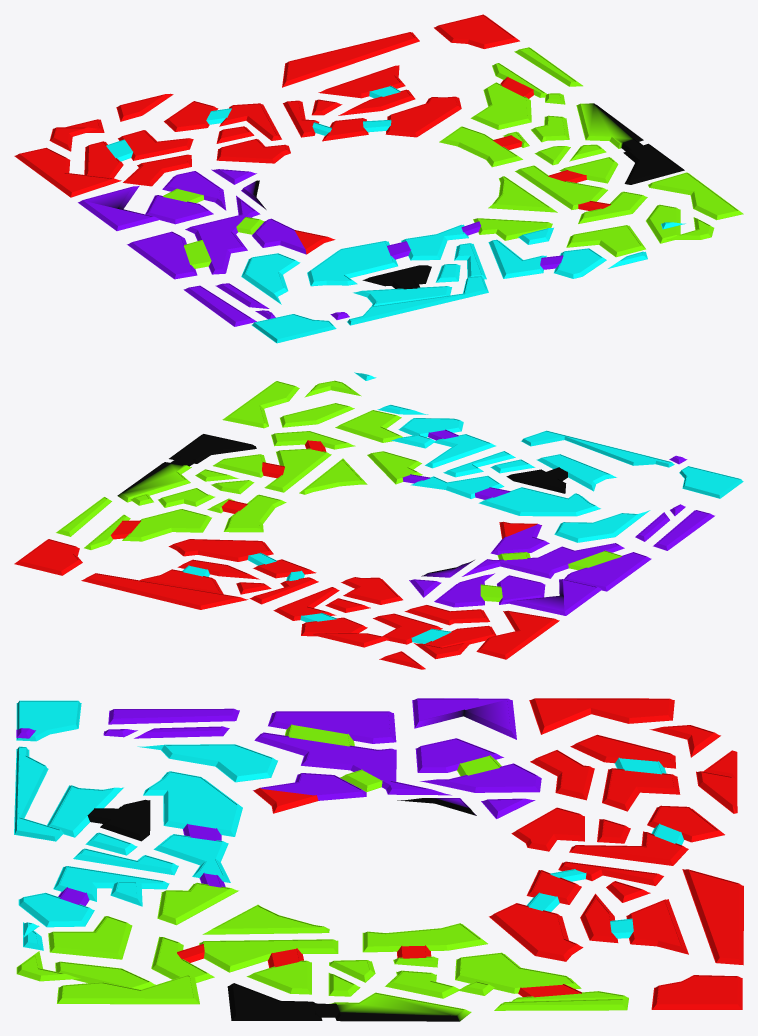
Rendered from Bottom_Floor_Rooftops.fbx.
3 renders of one model, top to bottom at view 1: azimuth 30°, elevation 25°; view 2: azimuth 150°, elevation 25°; view 3: azimuth 270°, elevation 25°, orthographic. The views are drawn at different scales.
Parts seen in each view (by area): view 1: Building_Bottom014, Building_Bottom021, Building_Bottom032, Building_Bottom046, Building_Bottom018, Building_Bottom034, Building_Bottom003, Building_Bottom005, Building_Bottom039, Building_Bottom043, Building_Bottom024, Building_Bottom009 (+19 smaller); view 2: Building_Bottom014, Building_Bottom021, Building_Bottom032, Building_Bottom046, Building_Bottom018, Building_Bottom034, Building_Bottom039, Building_Bottom003, Building_Bottom043, Building_Bottom005, Building_Bottom024, Building_Bottom020 (+19 smaller); view 3: Building_Bottom014, Building_Bottom021, Building_Bottom032, Building_Bottom046, Building_Bottom034, Building_Bottom018, Building_Bottom003, Building_Bottom005, Building_Bottom039, Building_Bottom009, Building_Bottom024, Building_Bottom043 (+27 smaller).
Boxes of the visible parts, <box> form: Building_Bottom014: <box>127,195,335,279</box>; Building_Bottom021: <box>307,218,552,286</box>; Building_Bottom032: <box>515,157,647,223</box>; Building_Bottom046: <box>283,96,461,141</box>; Building_Bottom018: <box>251,276,488,343</box>; Building_Bottom034: <box>576,103,684,184</box>; Building_Bottom003: <box>145,171,226,224</box>; Building_Bottom005: <box>84,130,193,178</box>; Building_Bottom039: <box>470,63,547,129</box>; Building_Bottom043: <box>282,32,419,87</box>; Building_Bottom024: <box>488,239,606,278</box>; Building_Bottom009: <box>164,101,281,140</box>; Building_Bottom014: <box>462,521,651,591</box>; Building_Bottom021: <box>367,451,600,516</box>; Building_Bottom032: <box>213,431,355,492</box>; Building_Bottom046: <box>168,539,318,604</box>; Building_Bottom018: <box>521,430,743,498</box>; Building_Bottom034: <box>117,434,256,502</box>; Building_Bottom039: <box>84,509,211,549</box>; Building_Bottom003: <box>434,573,545,607</box>; Building_Bottom043: <box>81,573,248,609</box>; Building_Bottom005: <box>373,613,496,647</box>; Building_Bottom024: <box>398,418,495,468</box>; Building_Bottom020: <box>506,454,616,493</box>; Building_Bottom014: <box>253,711,451,813</box>; Building_Bottom021: <box>143,771,242,925</box>; Building_Bottom032: <box>151,936,338,994</box>; Building_Bottom046: <box>489,861,663,961</box>; Building_Bottom034: <box>227,983,471,1021</box>; Building_Bottom018: <box>14,700,81,841</box>; Building_Bottom003: <box>415,738,541,792</box>; Building_Bottom005: <box>570,734,680,811</box>; Building_Bottom039: <box>455,952,628,1002</box>; Building_Bottom009: <box>569,805,724,865</box>; Building_Bottom024: <box>18,866,169,927</box>; Building_Bottom043: <box>682,869,743,965</box>.
Bounding box in the file's own units: 181 × 10 × 179.
